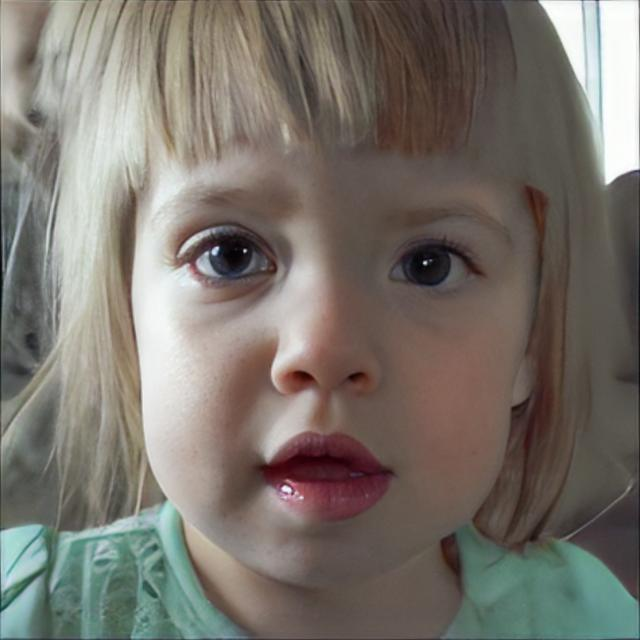surprise: (130, 62, 544, 588)
